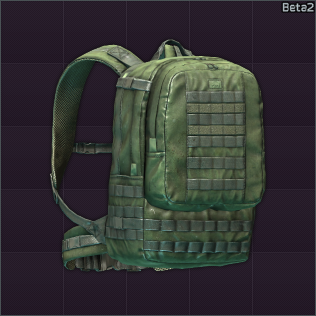ANA Tactical Beta 2 Battle backpack: (0, 0, 316, 316)
